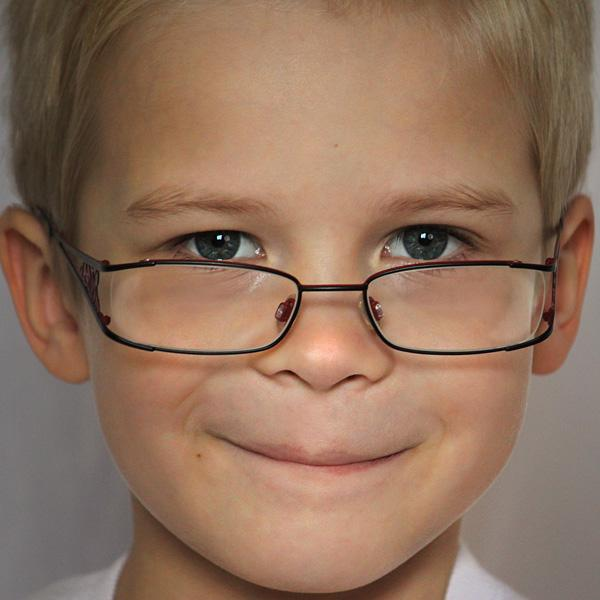Eyes: (145, 213, 274, 275), (371, 214, 487, 278)
